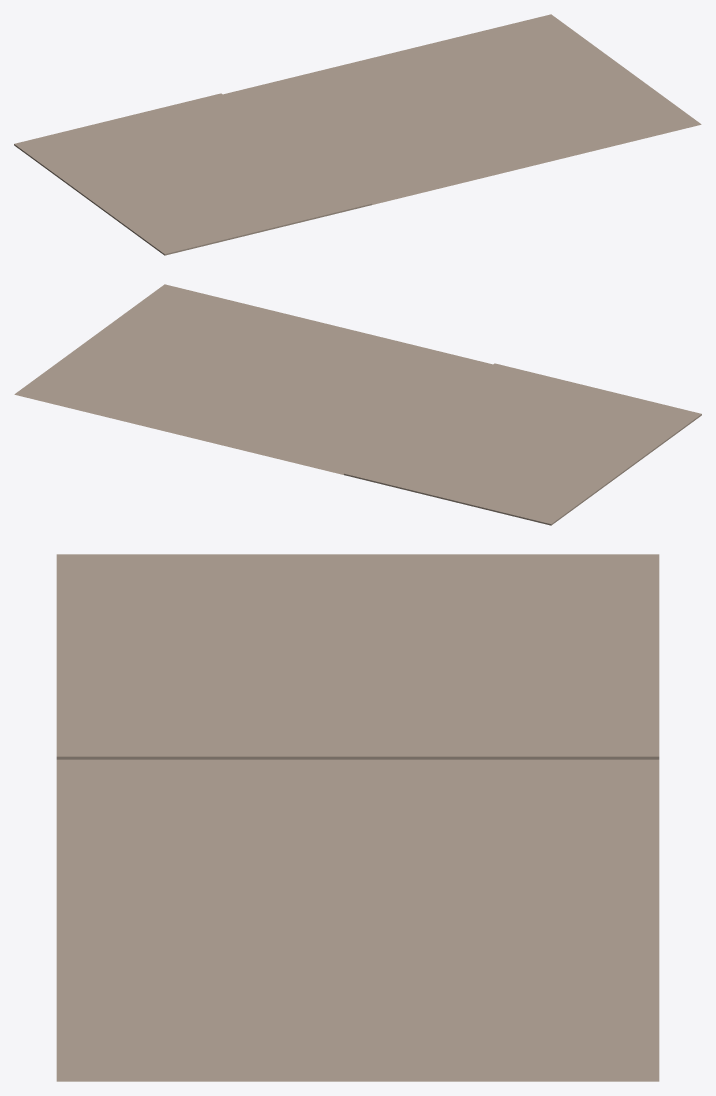
The model's file is BC_Gound_A.fbx.
3 views of the same model, one above another, from view 1: azimuth 30°, elevation 25°; view 2: azimuth 150°, elevation 25°; view 3: azimuth 270°, elevation 25° (orthographic). The views are drawn at different scales.
Visible parts, largest first — view 1: BC_Gound_A; view 2: BC_Gound_A; view 3: BC_Gound_A.
Part boxes in pixels (<box>): BC_Gound_A: <box>14,14,701,255</box>; BC_Gound_A: <box>14,284,701,525</box>; BC_Gound_A: <box>56,554,659,1081</box>.
Bounding box in the file's own units: 29339 × 76.81 × 14258.
